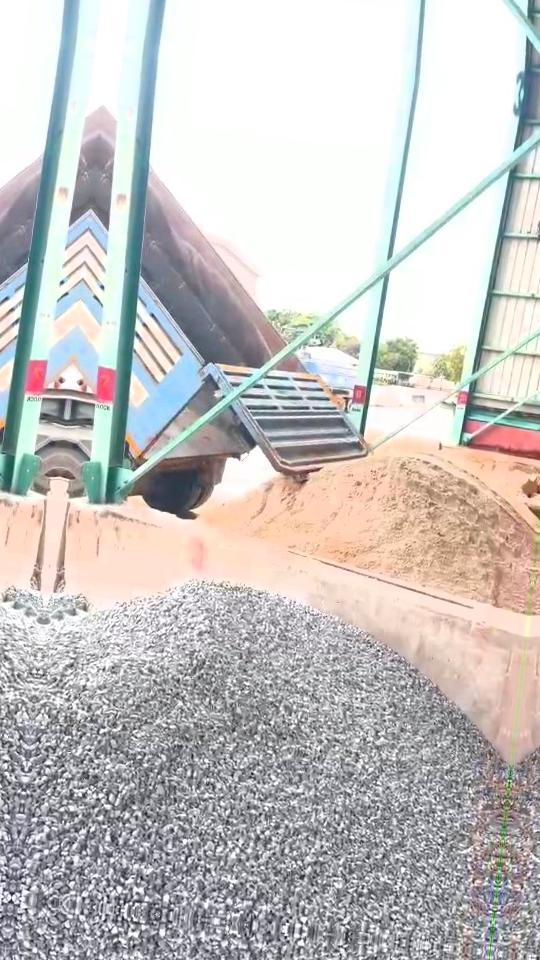gravel: (11, 581, 507, 949), (43, 592, 88, 624)
sand: (200, 454, 537, 611), (499, 469, 540, 500)
